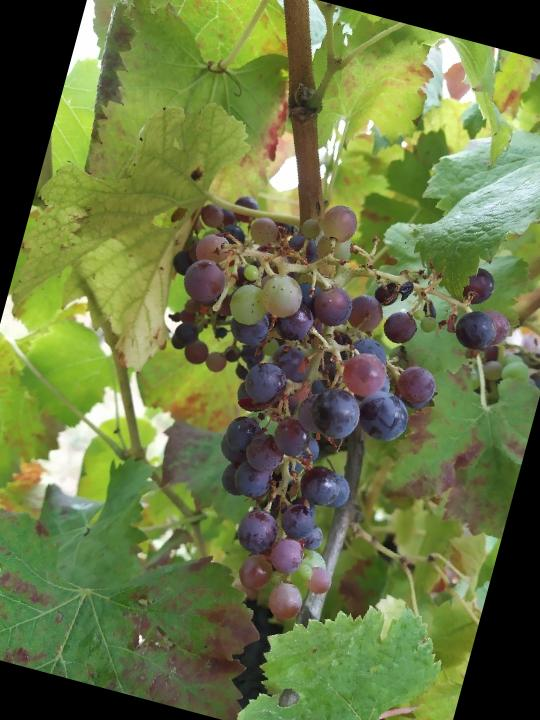grape: (86, 165, 532, 662)
